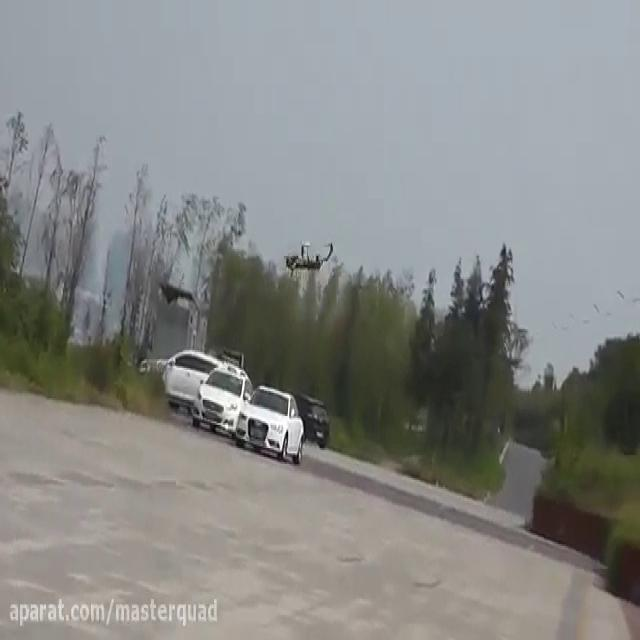drones: (278, 233, 340, 283)
